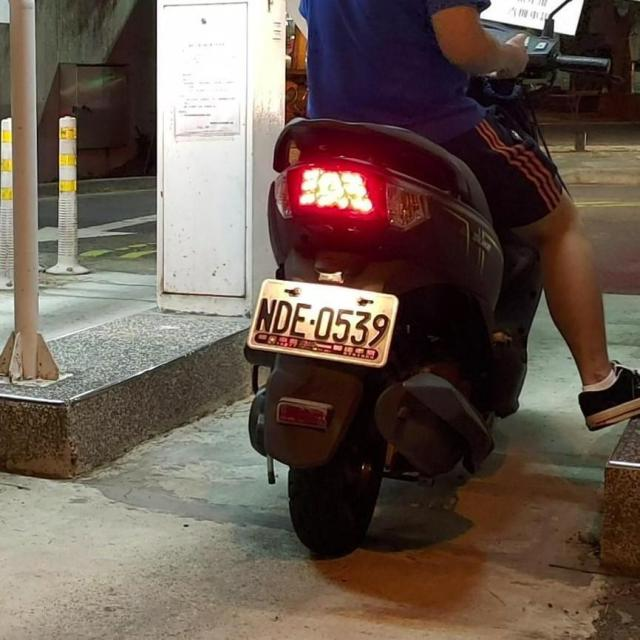W: (245, 273, 400, 368)
